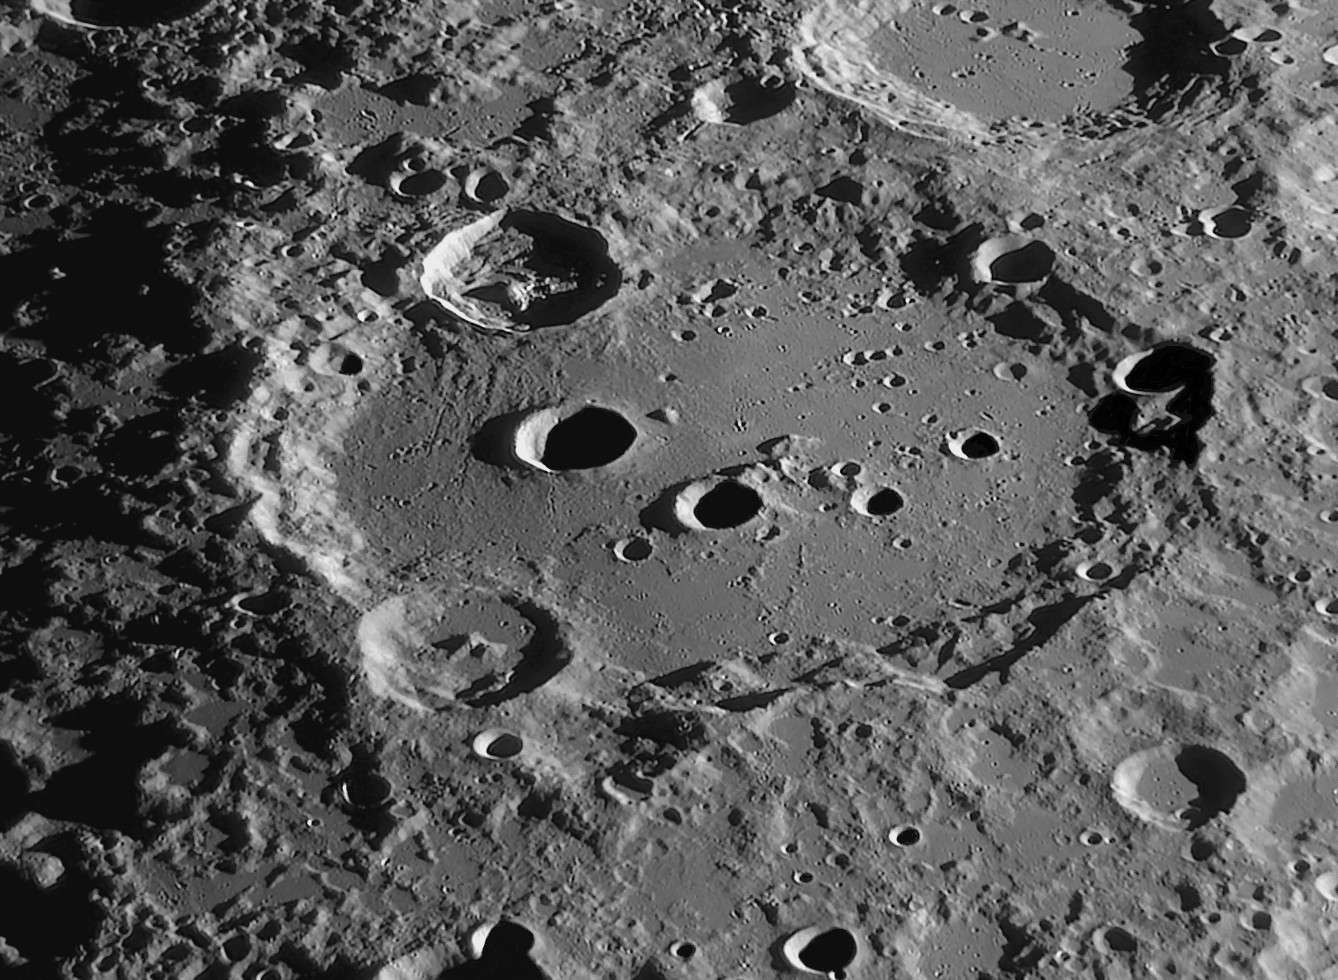crater: (309, 542, 599, 724), (1098, 713, 1285, 878), (451, 368, 645, 515), (853, 778, 996, 901), (938, 409, 1046, 487)
